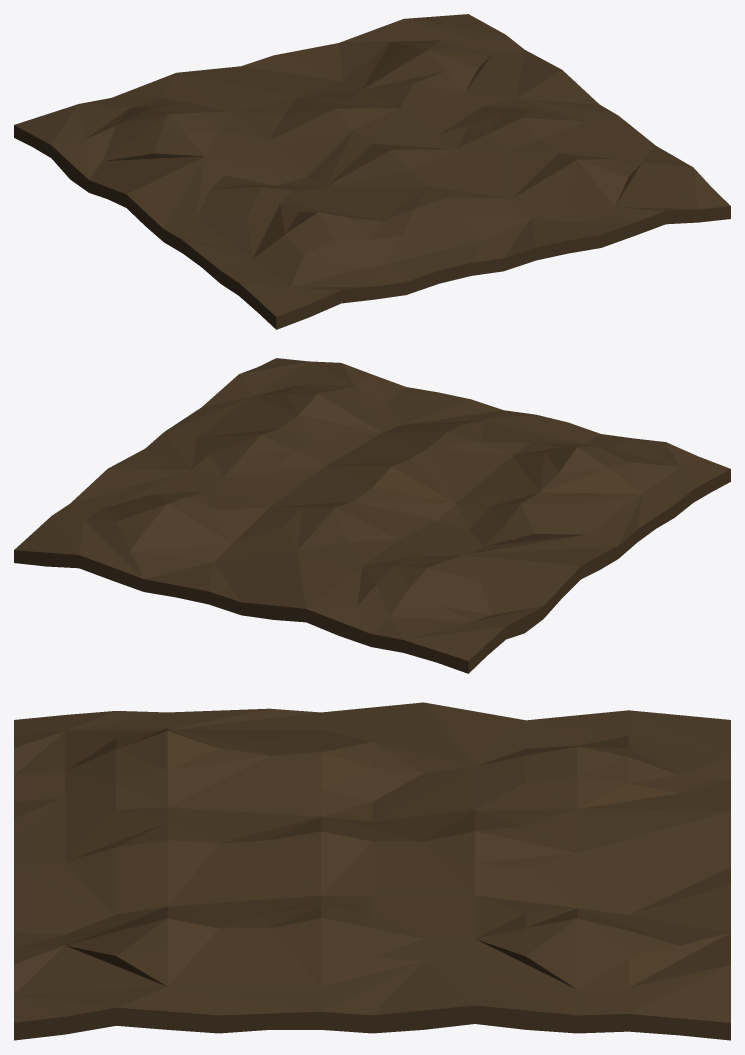
File: FarmTile.fbx
3 views of the same model, one above another, from view 1: azimuth 30°, elevation 25°; view 2: azimuth 150°, elevation 25°; view 3: azimuth 270°, elevation 25° (orthographic). The views are drawn at different scales.
Visible parts, largest first — view 1: pCube1; view 2: pCube1; view 3: pCube1.
Boxes of the visible parts, x1,y1,x2,y2 form: pCube1: (14,14,730,329); pCube1: (14,358,730,673); pCube1: (14,702,730,1040).
Size of the model in its own units: 10.93 by 1.26 by 10.93.
